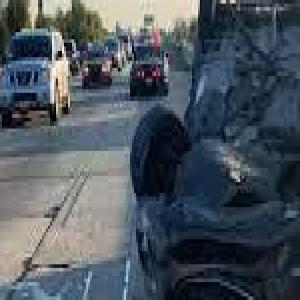fatal: (126, 0, 300, 300)
